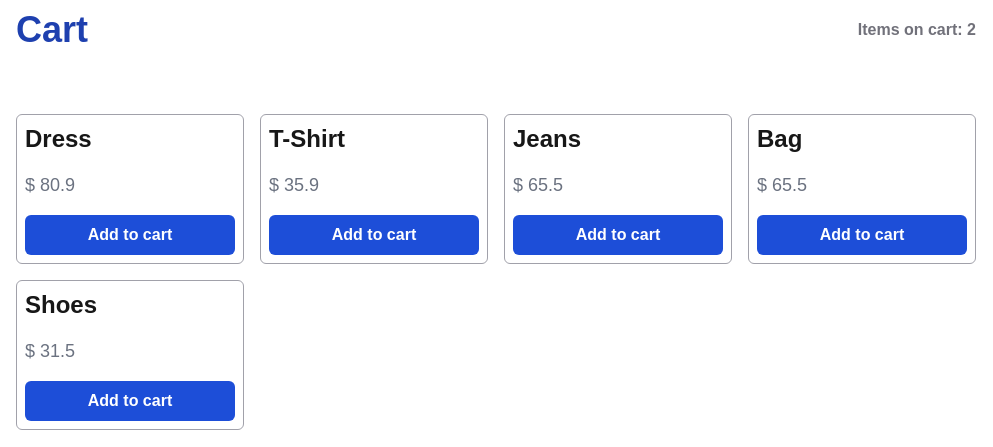
Test: <Products /> › it updates the total items on cart when adding a new item
The image size is (993, 447).
Click the button "Add to cart" below "Dress". click: (130, 235)
box: [25, 215, 235, 255]
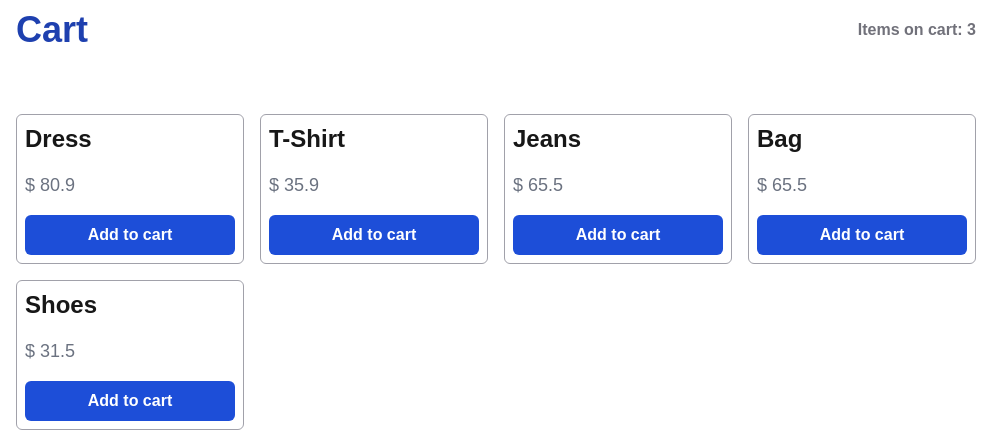
Check: the text "Items on cart: 3" is shown, box [858, 21, 976, 38]
